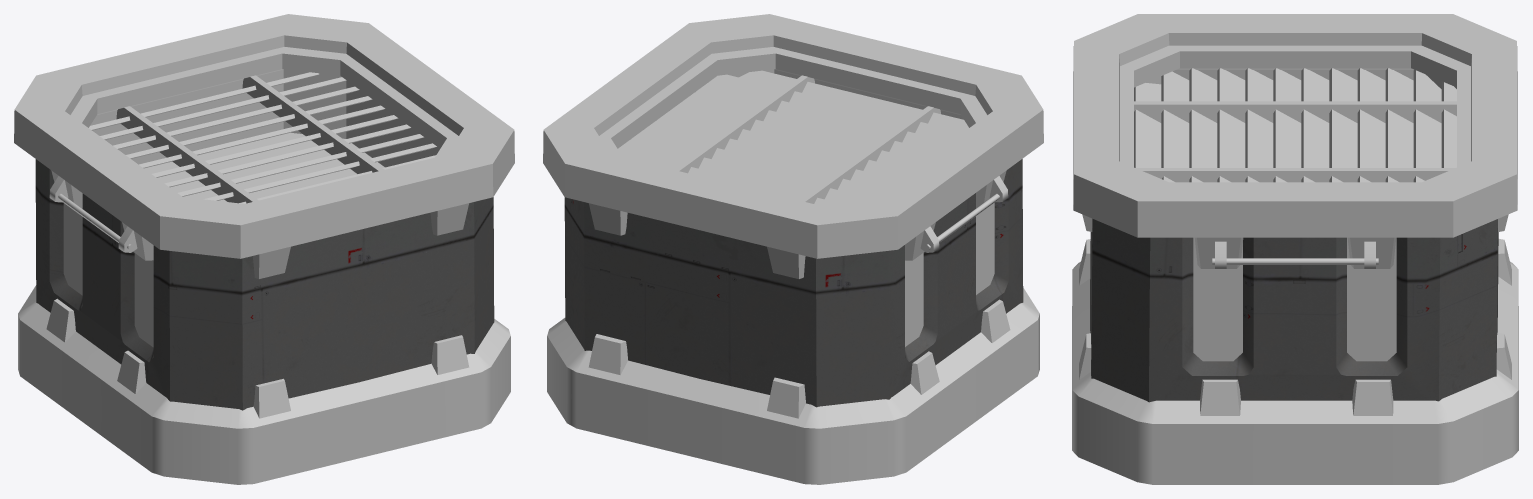
The model's file is Prop_Went_big2_L1.fbx.
3 renders of one model, left to right at view 1: azimuth 30°, elevation 25°; view 2: azimuth 150°, elevation 25°; view 3: azimuth 270°, elevation 25°, orthographic. The views are drawn at different scales.
Parts seen in each view (by area): view 1: polySurface242; view 2: polySurface242; view 3: polySurface242.
Boxes of the visible parts, bbox=[...] form: polySurface242: bbox=[14, 14, 514, 484]; polySurface242: bbox=[543, 14, 1043, 484]; polySurface242: bbox=[1072, 14, 1518, 484].
Size of the model in its own units: 149 by 104 by 149.
